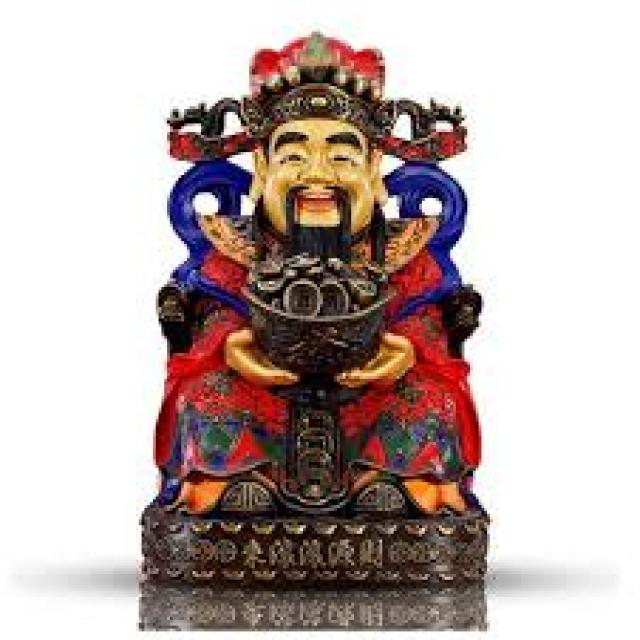Cai shen: (157, 34, 480, 490)
